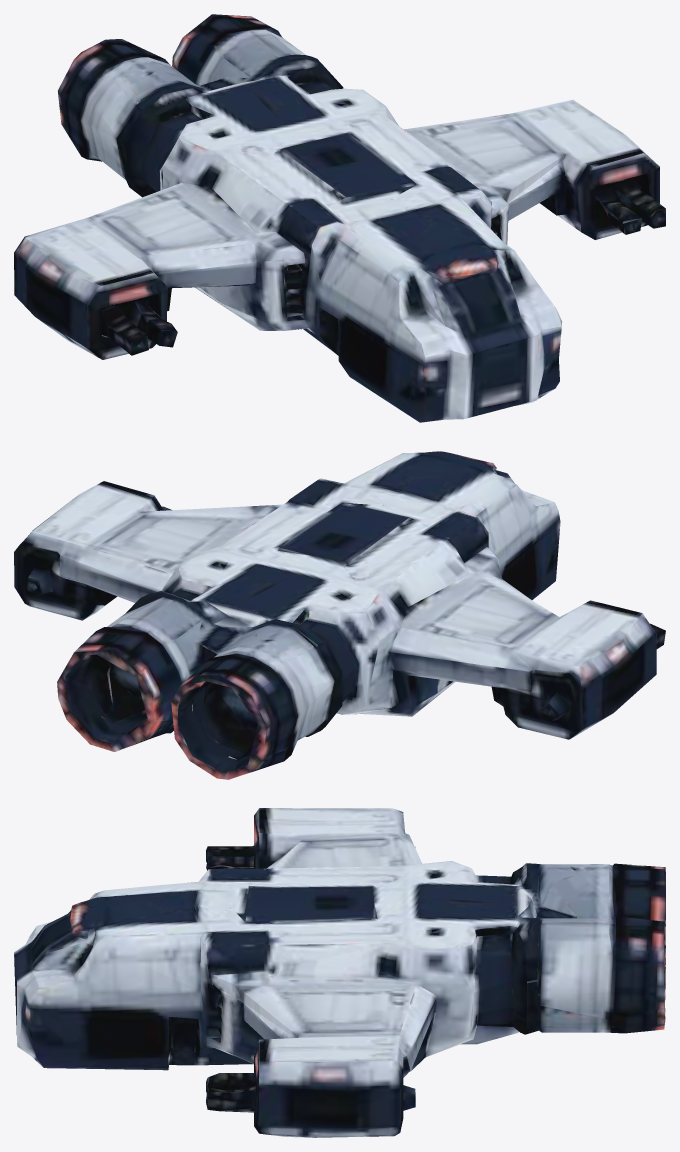
File: enemy-heavy-s3.glb
3 renders of one model, top to bottom at view 1: azimuth 30°, elevation 25°; view 2: azimuth 150°, elevation 25°; view 3: azimuth 270°, elevation 25°, orthographic. The views are drawn at different scales.
Parts seen in each view (by area): view 1: 9adbb147-c497-479b-8c6b-6f7a91005b4a_texturing.obj; view 2: 9adbb147-c497-479b-8c6b-6f7a91005b4a_texturing.obj; view 3: 9adbb147-c497-479b-8c6b-6f7a91005b4a_texturing.obj.
Boxes of the visible parts, bbox=[...] form: 9adbb147-c497-479b-8c6b-6f7a91005b4a_texturing.obj: bbox=[14, 14, 665, 422]; 9adbb147-c497-479b-8c6b-6f7a91005b4a_texturing.obj: bbox=[14, 451, 665, 779]; 9adbb147-c497-479b-8c6b-6f7a91005b4a_texturing.obj: bbox=[14, 808, 665, 1137].
Size of the model in its own units: 1.99 by 0.486 by 1.99.
Materials: 1 (1 with a texture image).
